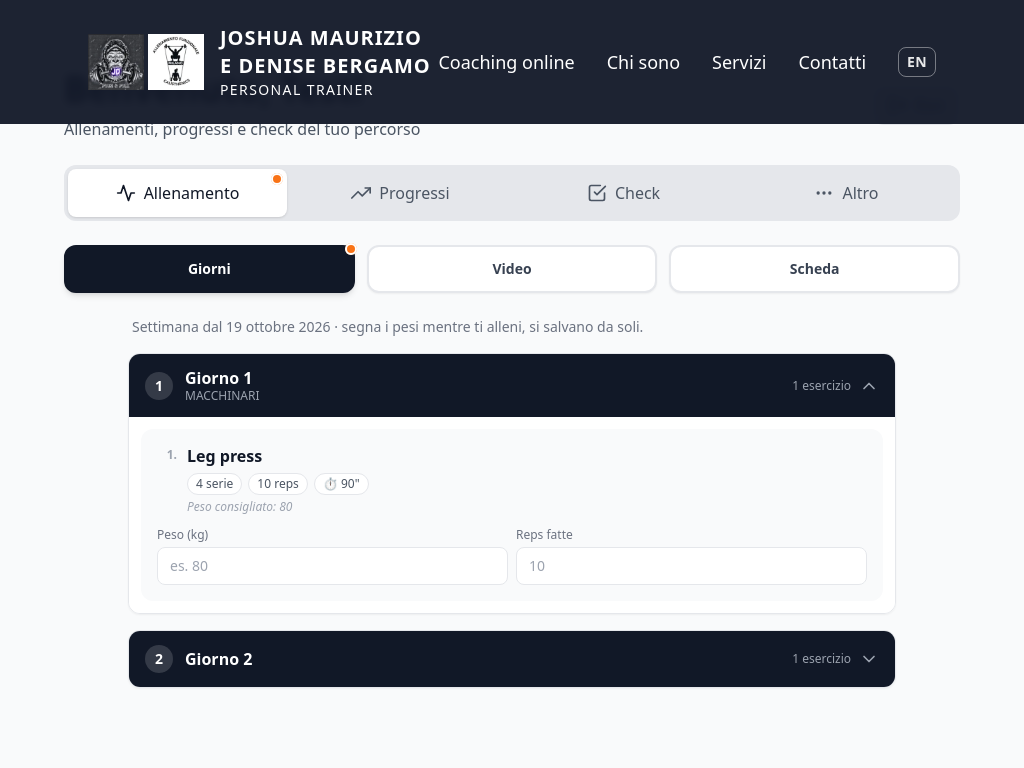
Test: DashboardPage — training days › uses one input per weight slot
(page scrolled)
Step 1. Click the button "2 Giorno 2 1 esercizio" → (219, 659), box [129,631,895,687]
(page scrolled)
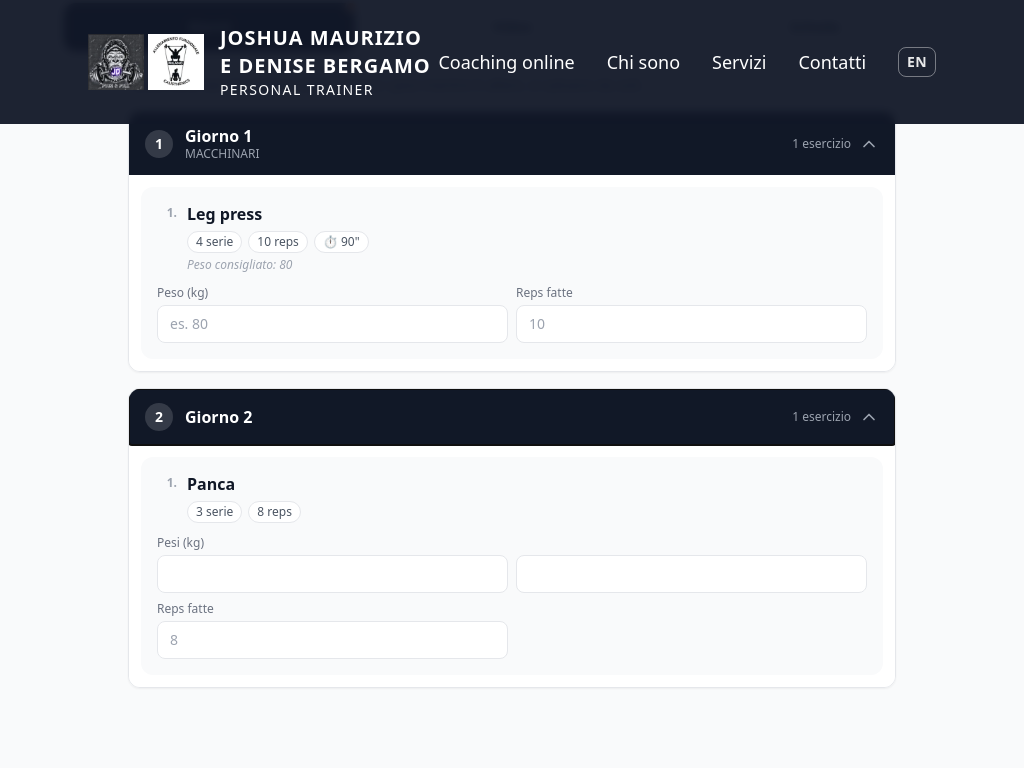
Expected: the field named "Peso 1 (kg)" is shown, [157,555,508,593]
Expected: the field named "Peso 2 (kg)" is shown, [516,555,867,593]
